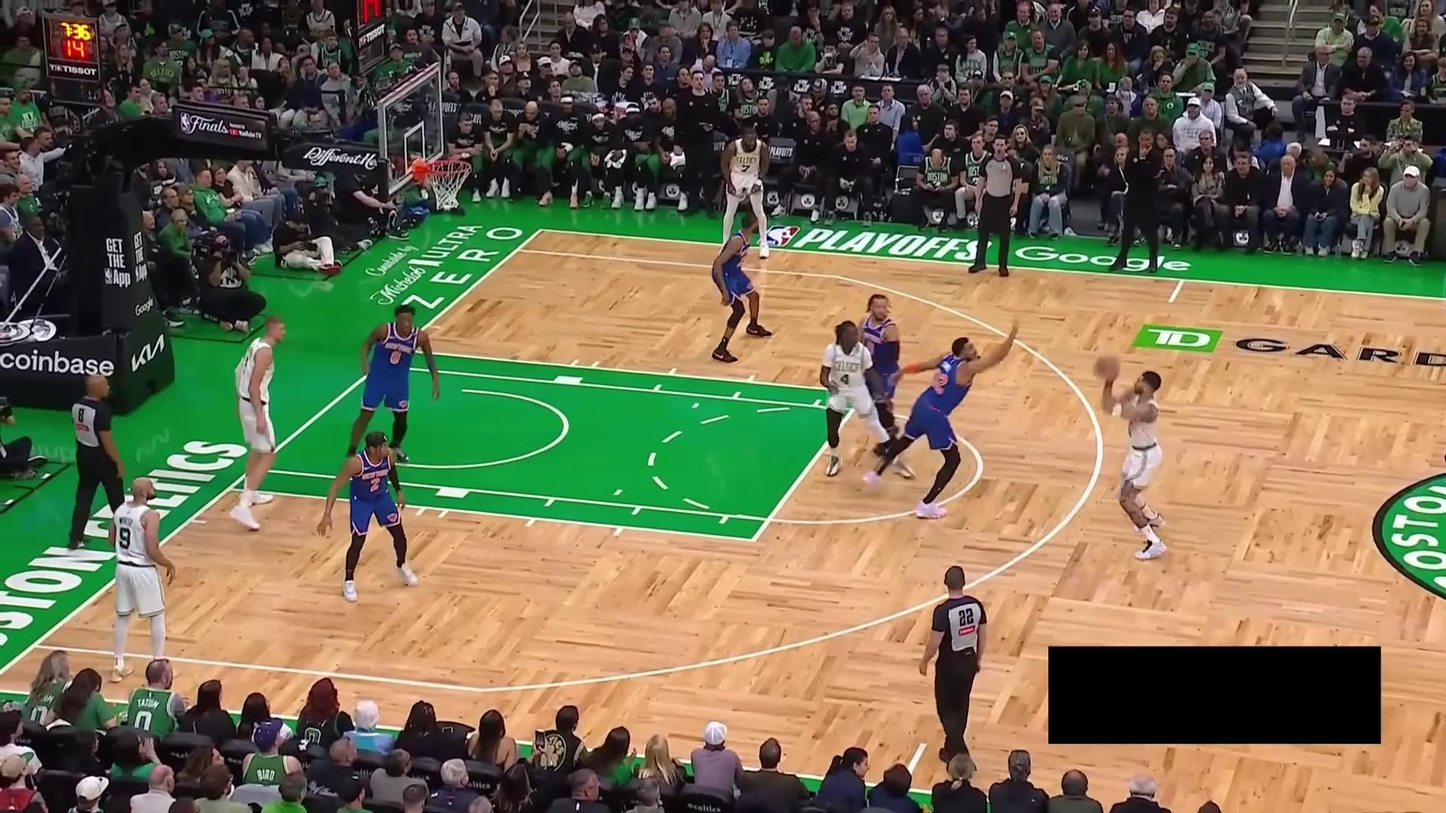ball: (1094, 352, 1121, 381)
number: (930, 366, 951, 394), (119, 526, 131, 550), (389, 349, 403, 366), (369, 477, 382, 493), (839, 372, 851, 387), (740, 163, 752, 174)
player: (858, 317, 1023, 520), (315, 429, 419, 602), (342, 303, 441, 468), (819, 320, 915, 481), (106, 475, 177, 687), (229, 314, 285, 532), (711, 212, 774, 364), (855, 293, 903, 459), (718, 125, 773, 260)
player-in-possession: (1094, 351, 1169, 562)
referee: (919, 565, 987, 781), (66, 370, 127, 551), (967, 134, 1024, 279)
rim: (426, 157, 472, 175)
